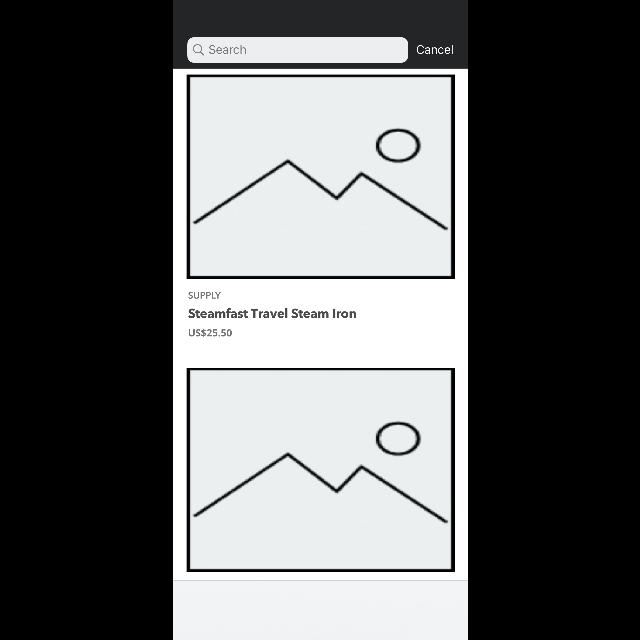icon: (192, 44, 204, 56)
image: (186, 368, 454, 572), (186, 75, 454, 279)
input: (186, 37, 408, 63)
text: (188, 308, 356, 318), (416, 45, 452, 55), (188, 329, 232, 337), (208, 46, 246, 54), (188, 292, 220, 298)
